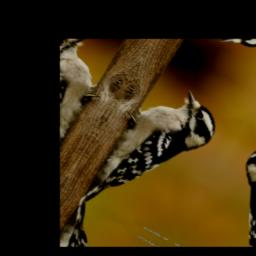Woodpecker: (75, 71, 230, 237)
